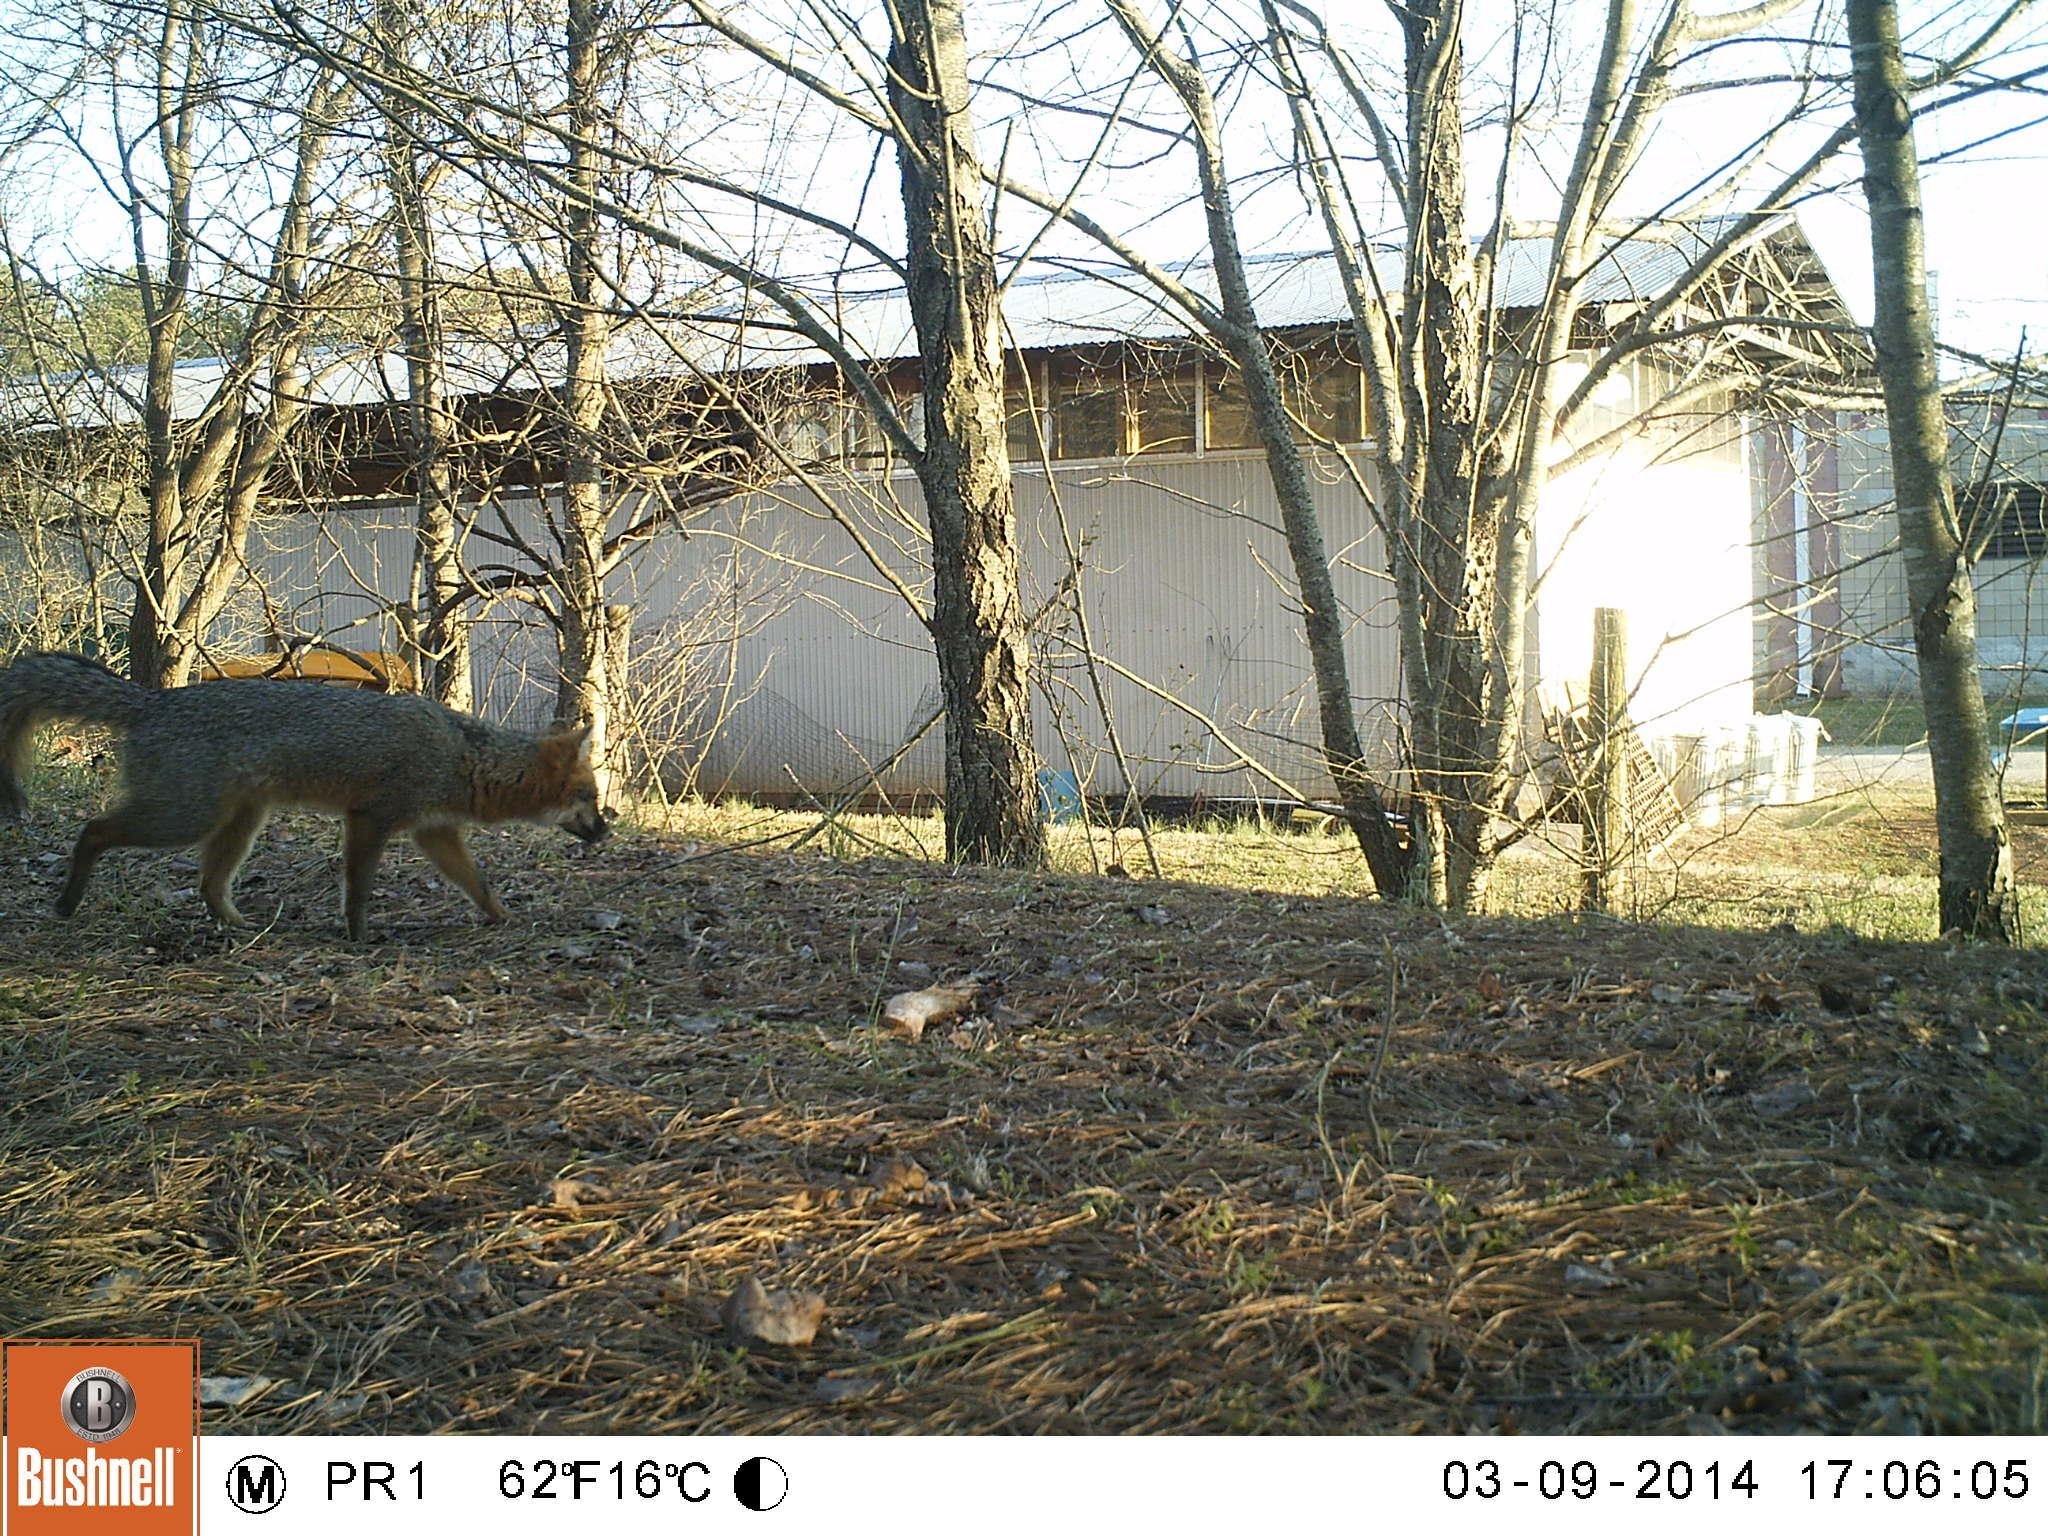Animal: (2, 647, 614, 937)
